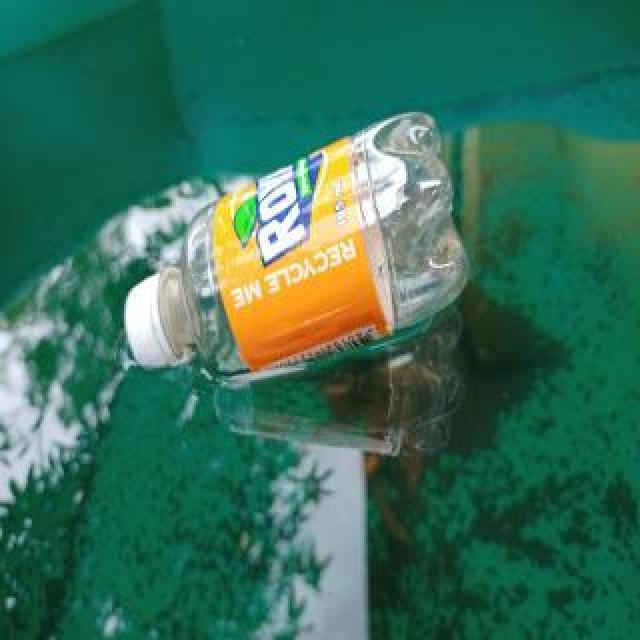bottle: (119, 106, 473, 380)
